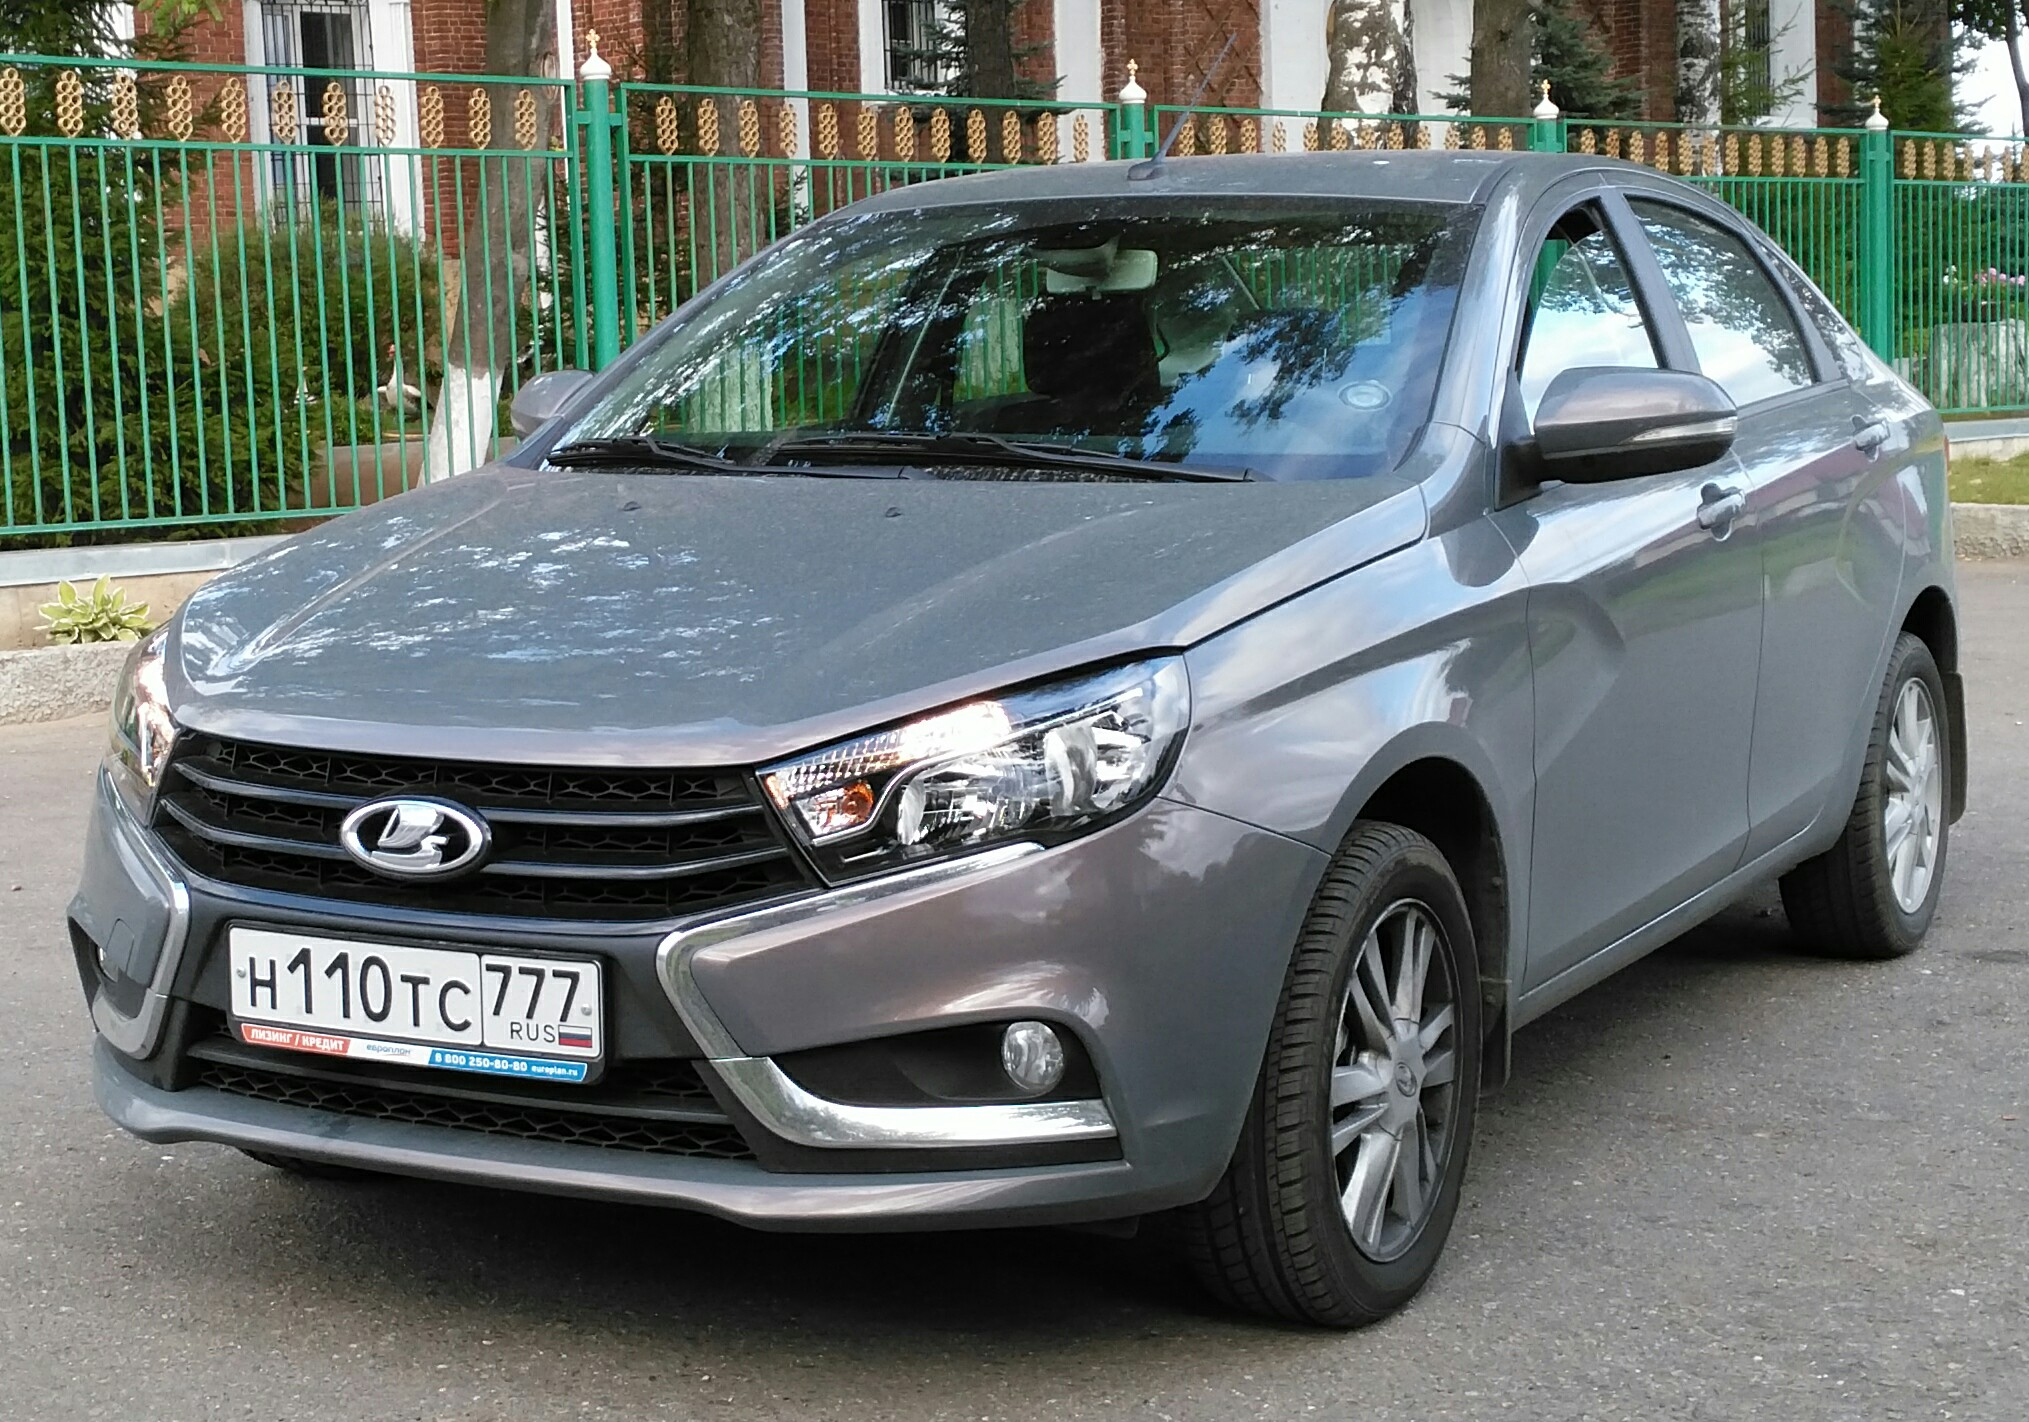car: (51, 105, 1957, 1346)
plate: (201, 896, 628, 1108)
